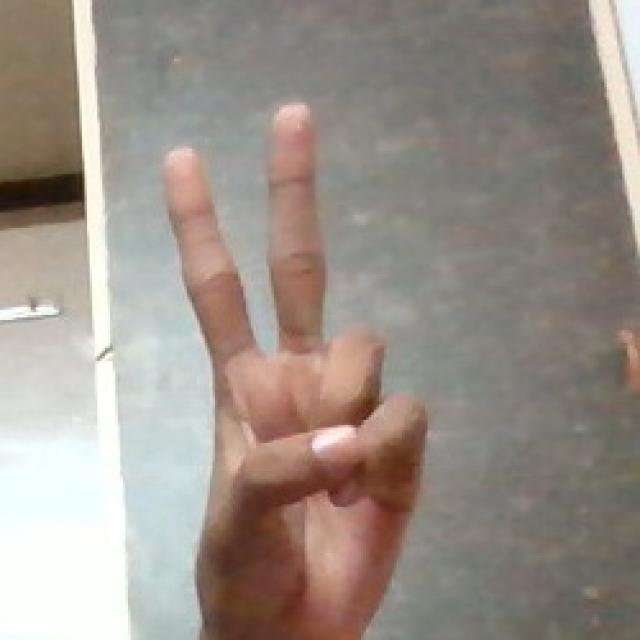Numeric-2: (164, 102, 427, 614)
